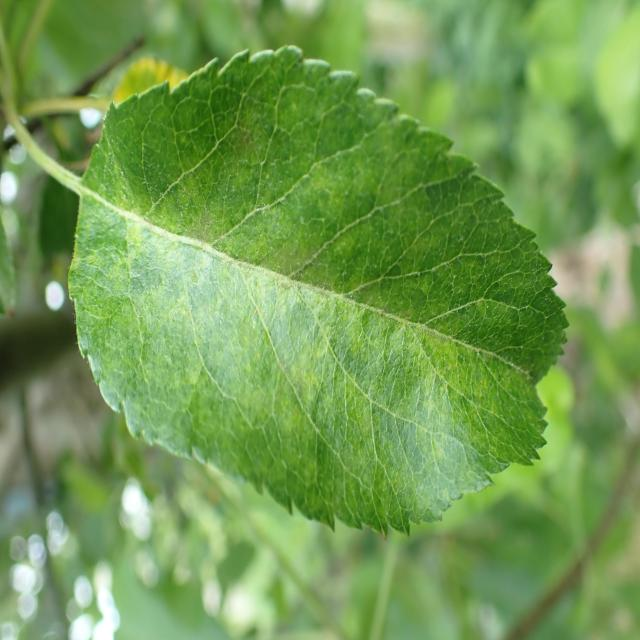scab: (86, 96, 556, 496)
